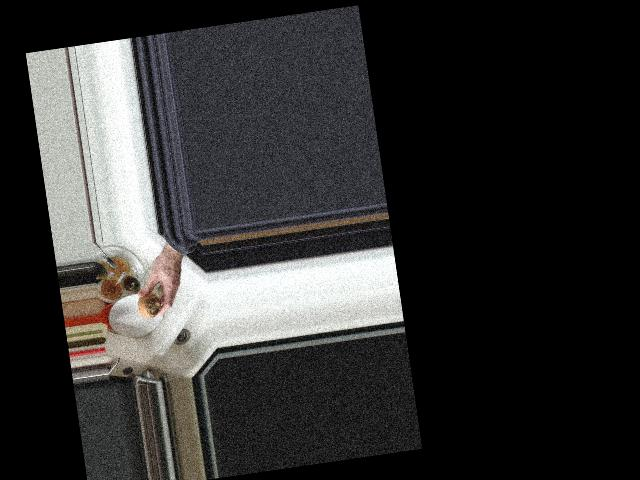sweet_potato: (134, 286, 163, 321)
